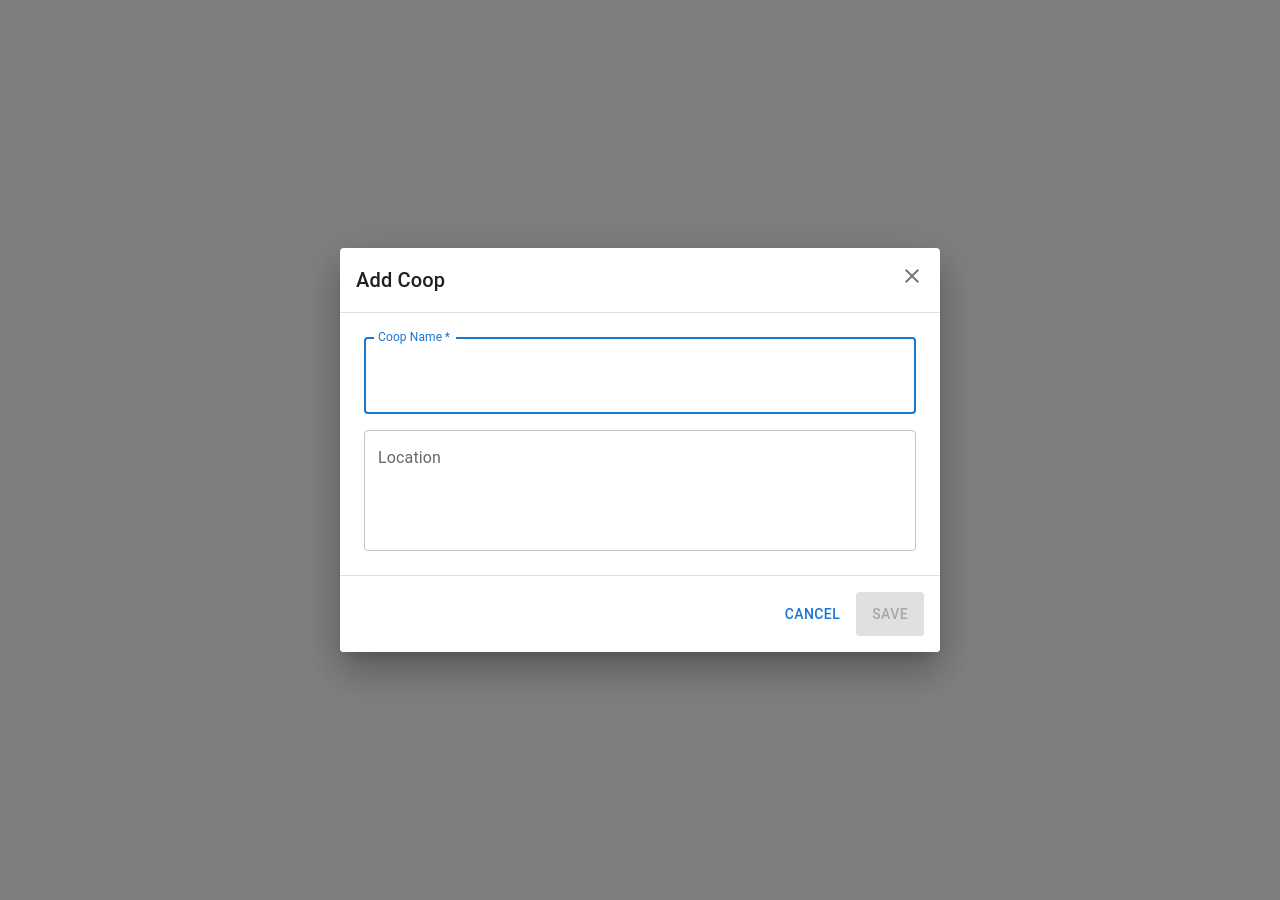
Test: CreateCoopModal › Form Validation › should enable save button when name is valid
The width and height of the screenshot is (1280, 900).
Type "Test Coop" into the field labelled "Coop Name *" at coordinates (640, 376), box [364, 337, 916, 414]
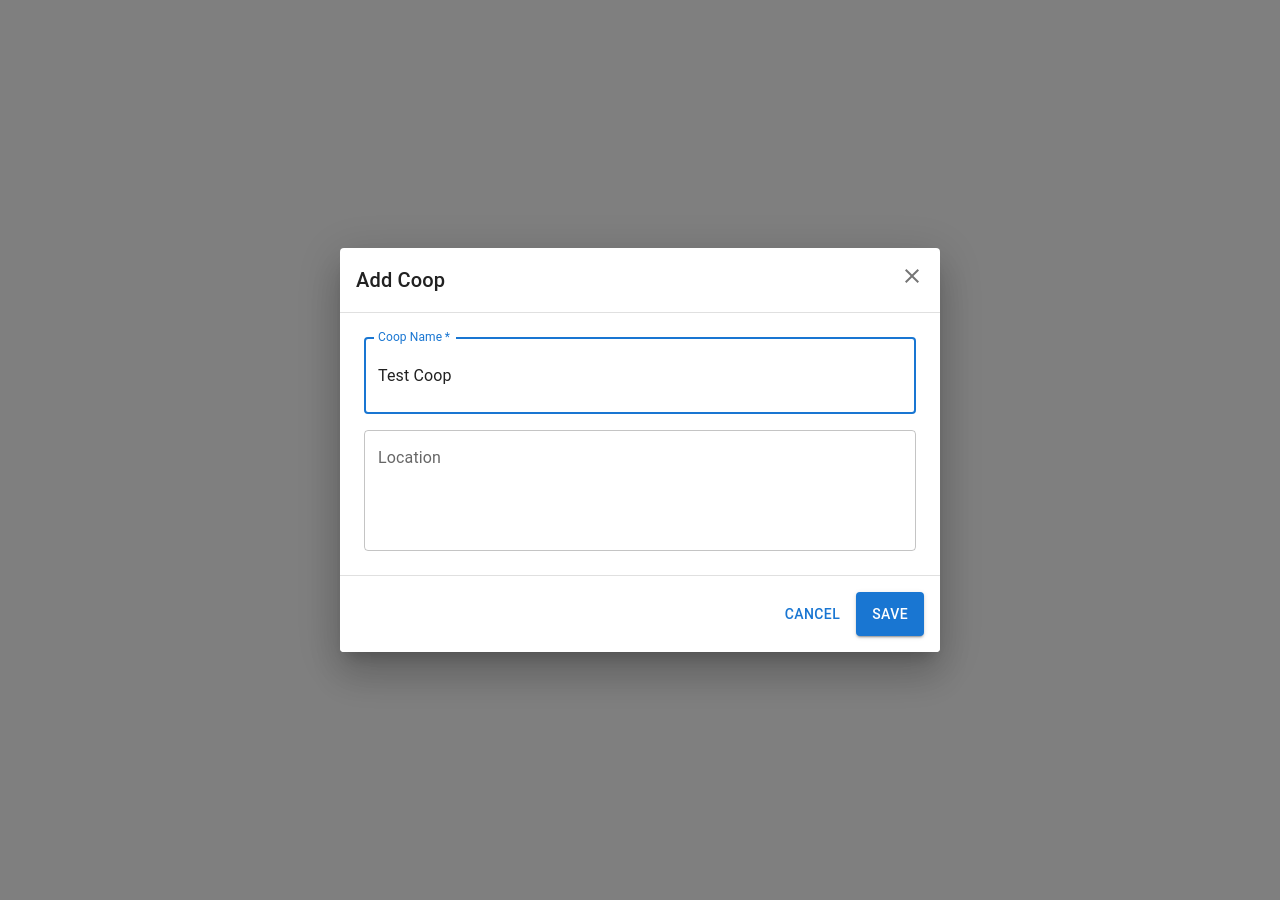
Expected: the button "Save" is enabled, [856, 592, 924, 636]
